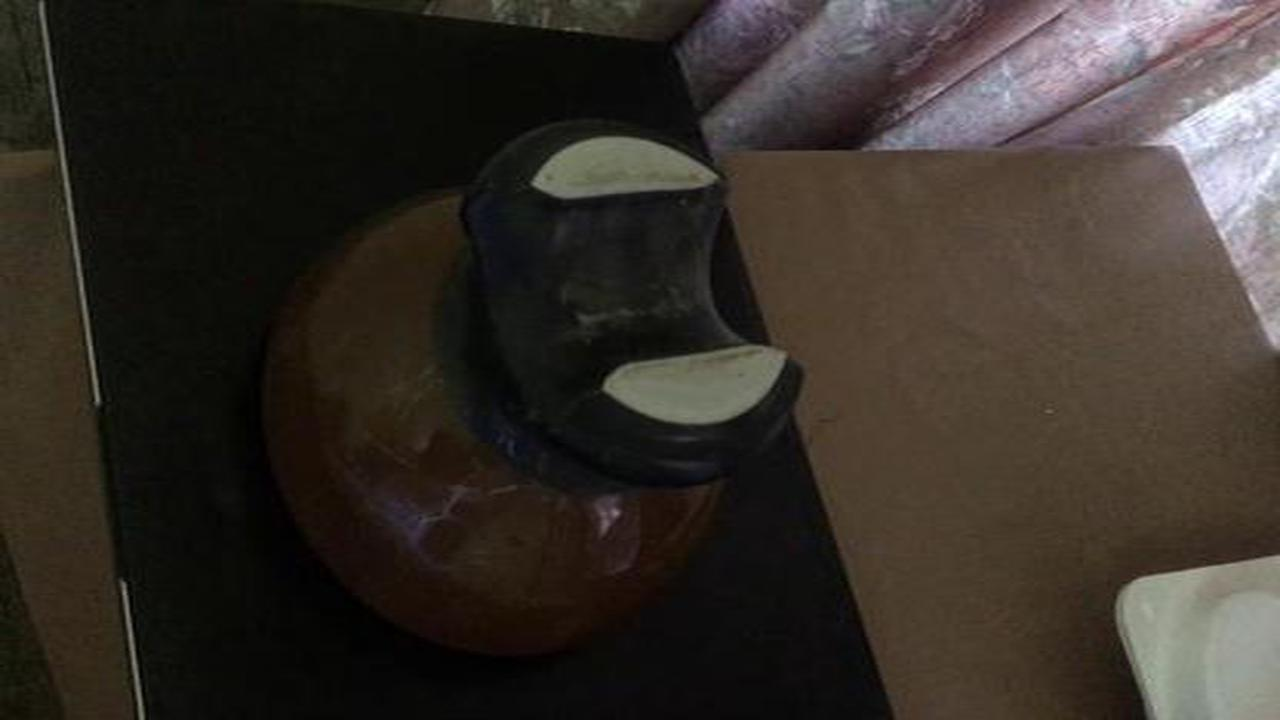insulator_pin: (234, 108, 841, 677)
